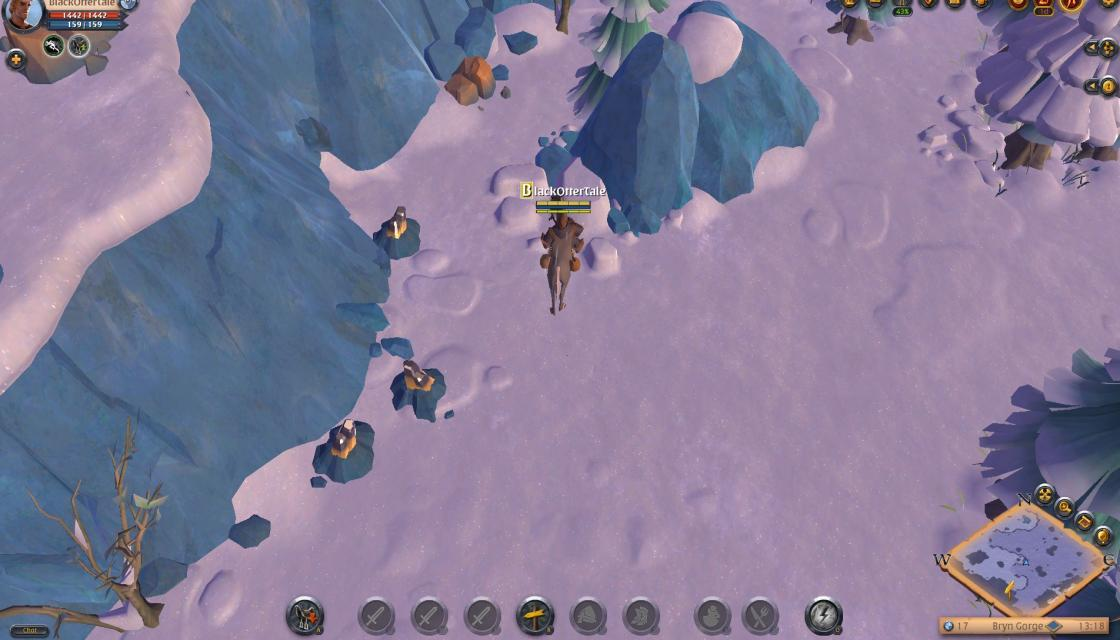copperore: (310, 417, 376, 485), (388, 357, 450, 424), (370, 207, 425, 256)
limestone: (8, 30, 114, 87), (440, 51, 502, 107)
